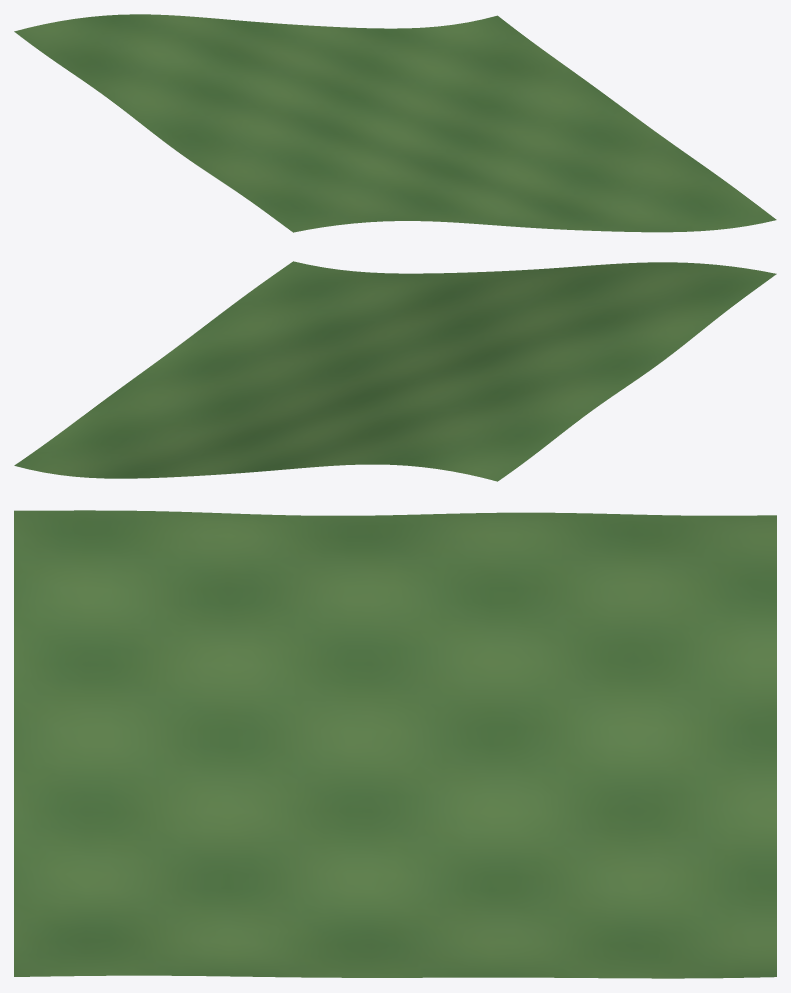
File: chunk_0_3.glb
3 views of the same model, one above another, from view 1: azimuth 30°, elevation 25°; view 2: azimuth 150°, elevation 25°; view 3: azimuth 270°, elevation 25° (orthographic). The views are drawn at different scales.
Size of the model in its own units: 512 by 108 by 512.
